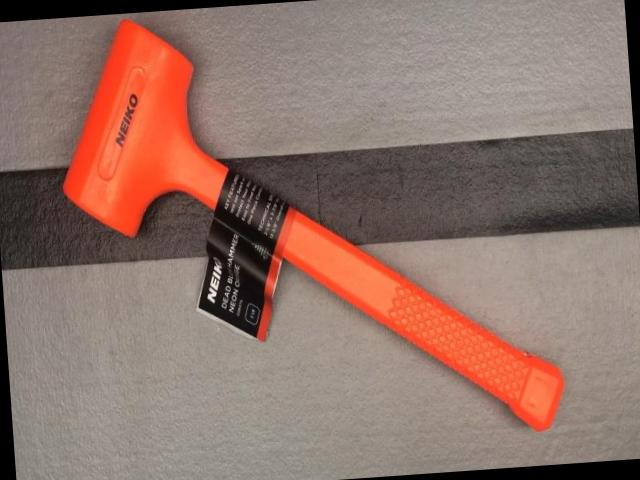hammer: (50, 0, 568, 463)
